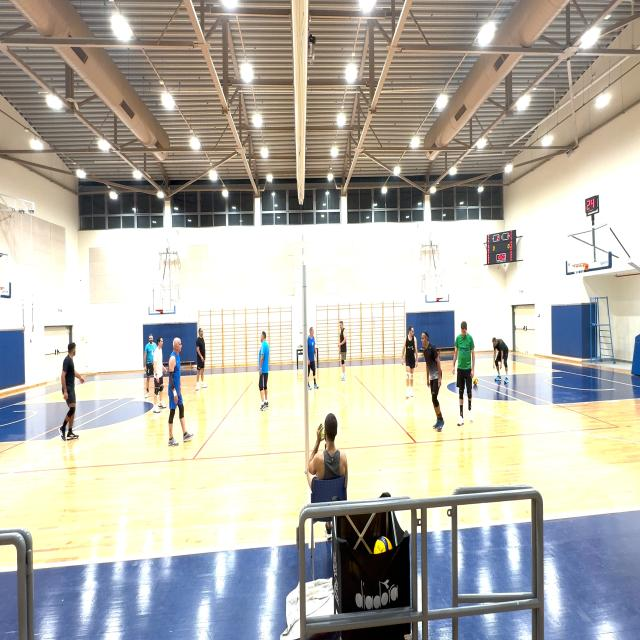volleyball: (373, 536, 393, 555), (472, 377, 478, 385)
